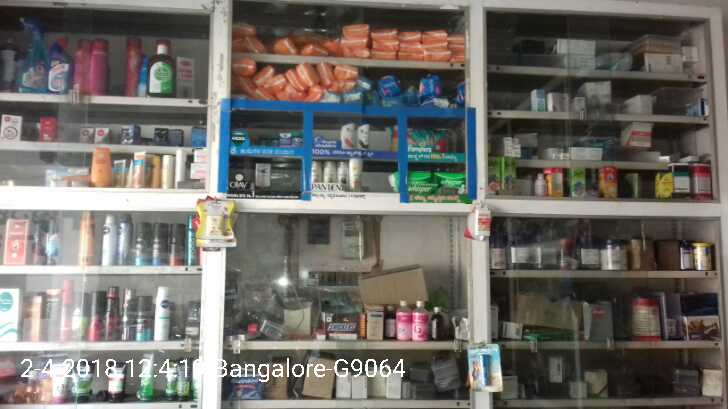vicks: (249, 129, 306, 148)
